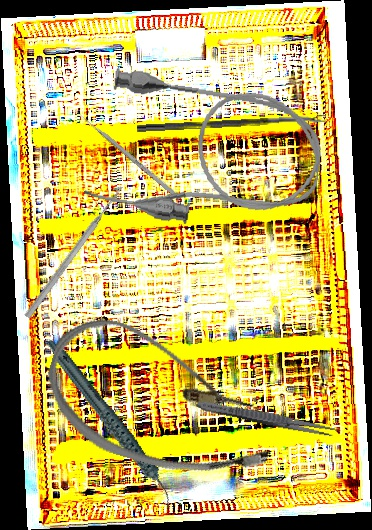Cannula: (31, 307, 293, 495), (81, 64, 330, 242)
Dressing Forceps: (193, 397, 343, 440)
Handpiece: (46, 321, 176, 527)
Pusher: (23, 183, 126, 321), (73, 108, 182, 201)
Surgical Spoon: (136, 115, 327, 133)
